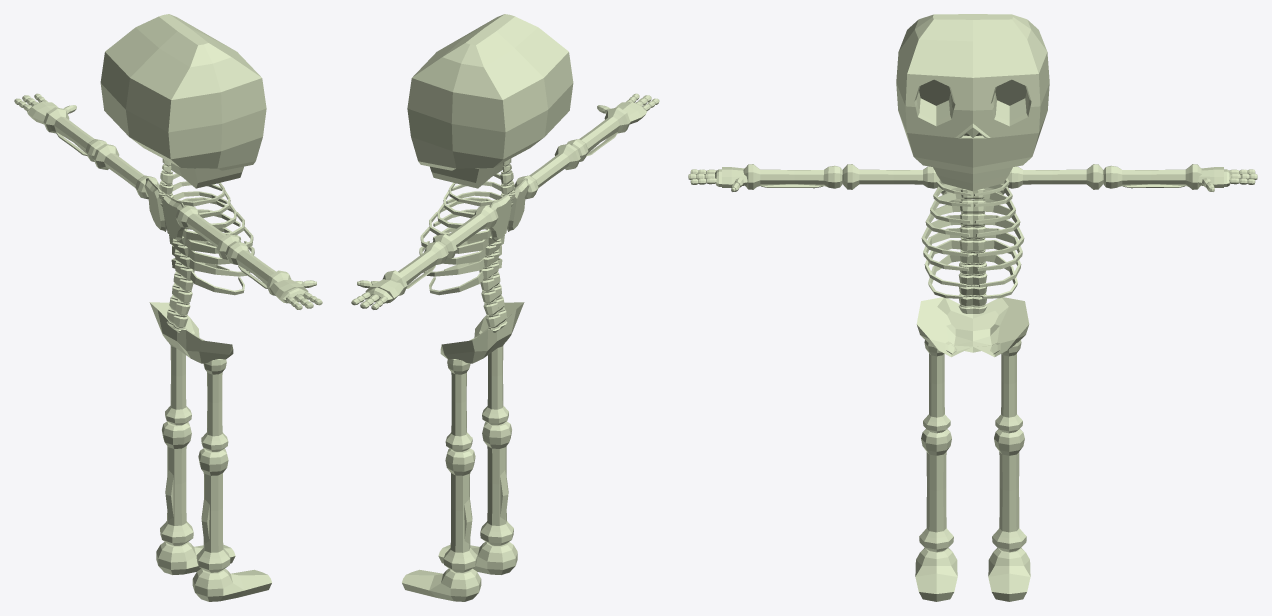
File: Skeleton.fbx
The picture shows the model from 3 angles, left to right: view 1: azimuth 30°, elevation 25°; view 2: azimuth 150°, elevation 25°; view 3: azimuth 270°, elevation 25°; orthographic projection.
Visible parts, largest first — view 1: Plane.015; view 2: Plane.015; view 3: Plane.015.
Boxes of the visible parts, box(x1,y1,x2,y2) form: Plane.015: box(14, 14, 322, 601); Plane.015: box(351, 14, 659, 601); Plane.015: box(688, 14, 1257, 601).
Size of the model in its own units: 281 by 1206 by 1123.
